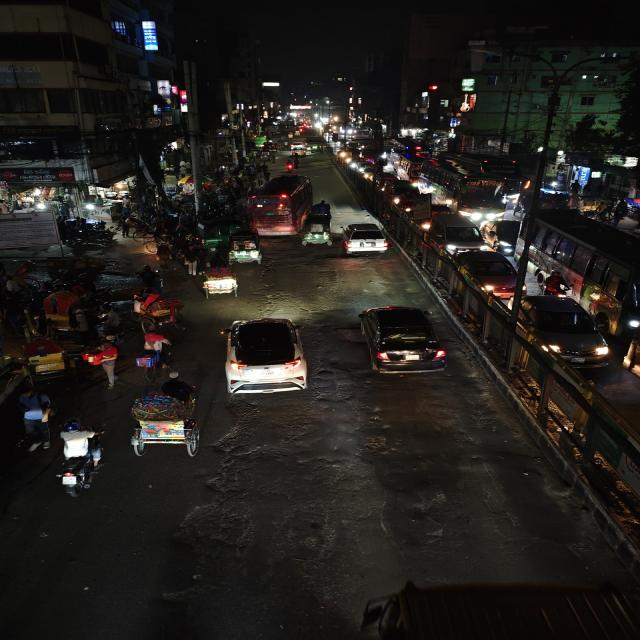bus: (524, 209, 640, 334), (418, 158, 514, 215), (248, 173, 313, 235)
car: (217, 315, 315, 397), (512, 293, 612, 367), (352, 303, 450, 377), (448, 250, 527, 300), (424, 213, 490, 254), (336, 220, 389, 258), (484, 218, 526, 252), (381, 181, 425, 208)
cng: (198, 217, 244, 249), (227, 230, 265, 264), (303, 216, 333, 248)
motorcycle: (52, 422, 106, 496), (540, 269, 573, 297), (281, 158, 299, 172)
pedestrian: (15, 390, 56, 444), (83, 339, 124, 388), (132, 343, 165, 382), (178, 244, 204, 277)
rickshaw: (122, 379, 217, 459), (16, 332, 75, 380), (131, 288, 186, 330), (193, 263, 242, 299)
